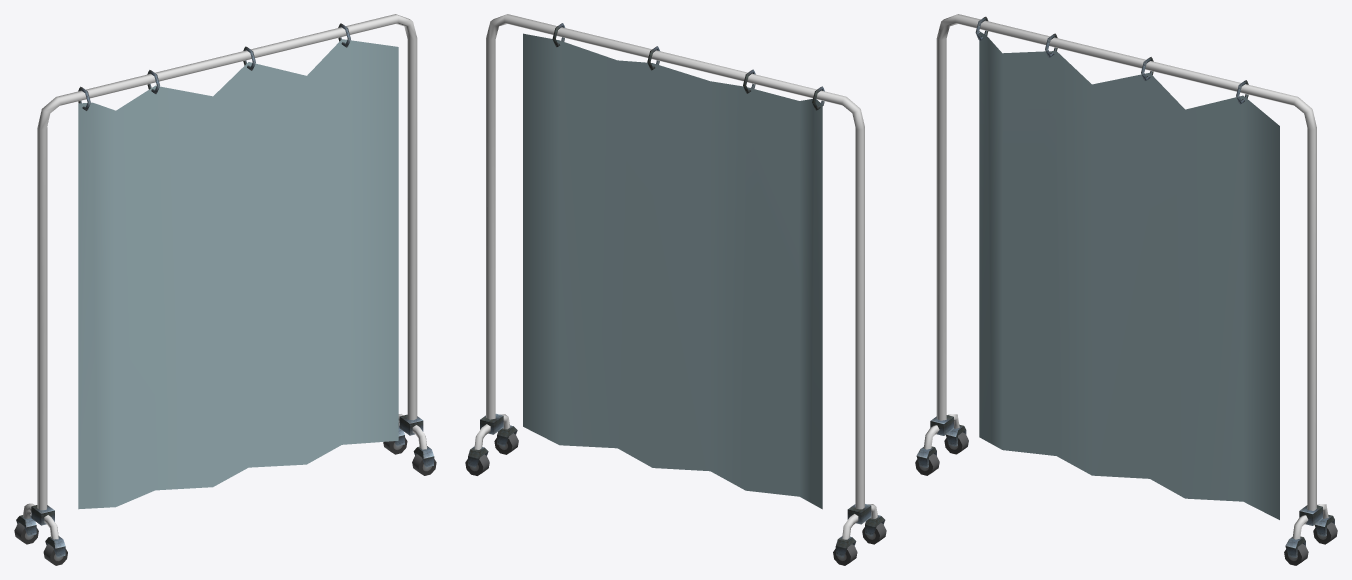
Rendered from curtain.FBX.
3 views of the same model, side by side, from view 1: azimuth 30°, elevation 25°; view 2: azimuth 150°, elevation 25°; view 3: azimuth 330°, elevation 25° (orthographic).
Parts seen in each view (by area): view 1: cortain, Separador; view 2: cortain, Separador; view 3: cortain, Separador.
Boxes of the visible parts, left/top/right/bottom form: cortain: left=78, top=39, right=398, bottom=509; Separador: left=14, top=14, right=436, bottom=565; cortain: left=523, top=33, right=822, bottom=509; Separador: left=465, top=14, right=886, bottom=565; cortain: left=979, top=31, right=1279, bottom=519; Separador: left=915, top=14, right=1337, bottom=565.
Size of the model in its own units: 158 by 177 by 27.78.
4 materials, 4 textured.
